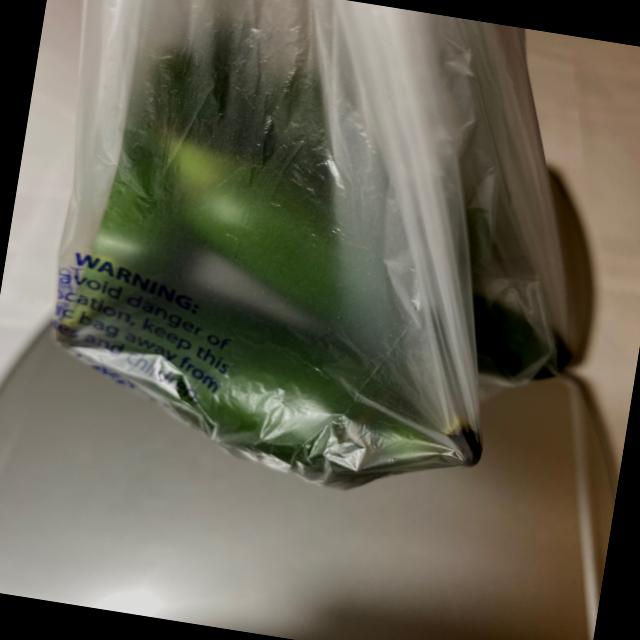chilli: (10, 18, 628, 528)
